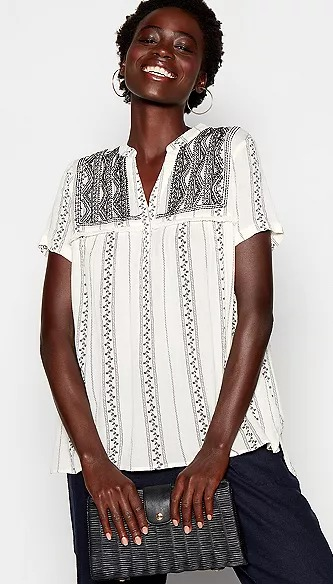C_short blouse: (38, 124, 290, 476)
